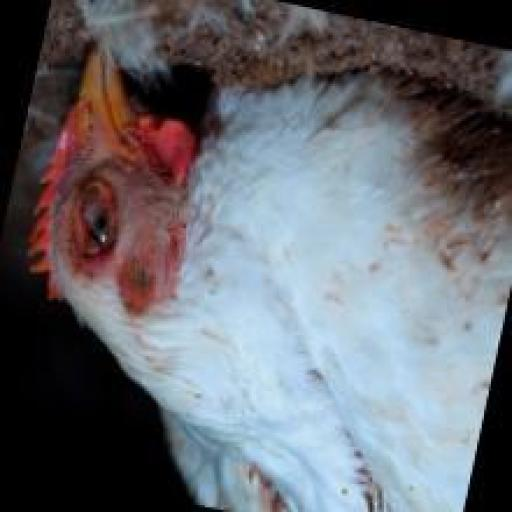disease: (75, 168, 136, 268)
